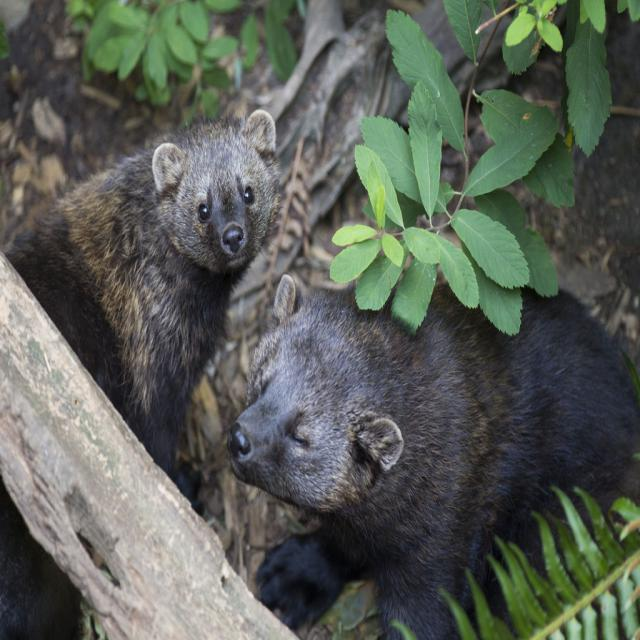Bear: (0, 107, 302, 640), (228, 275, 640, 639)
